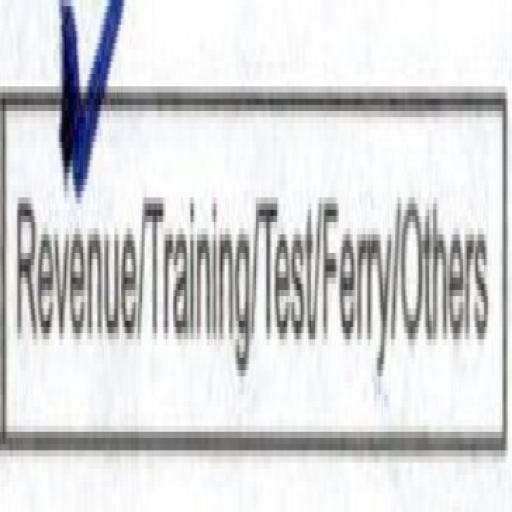check: (0, 0, 141, 463)
